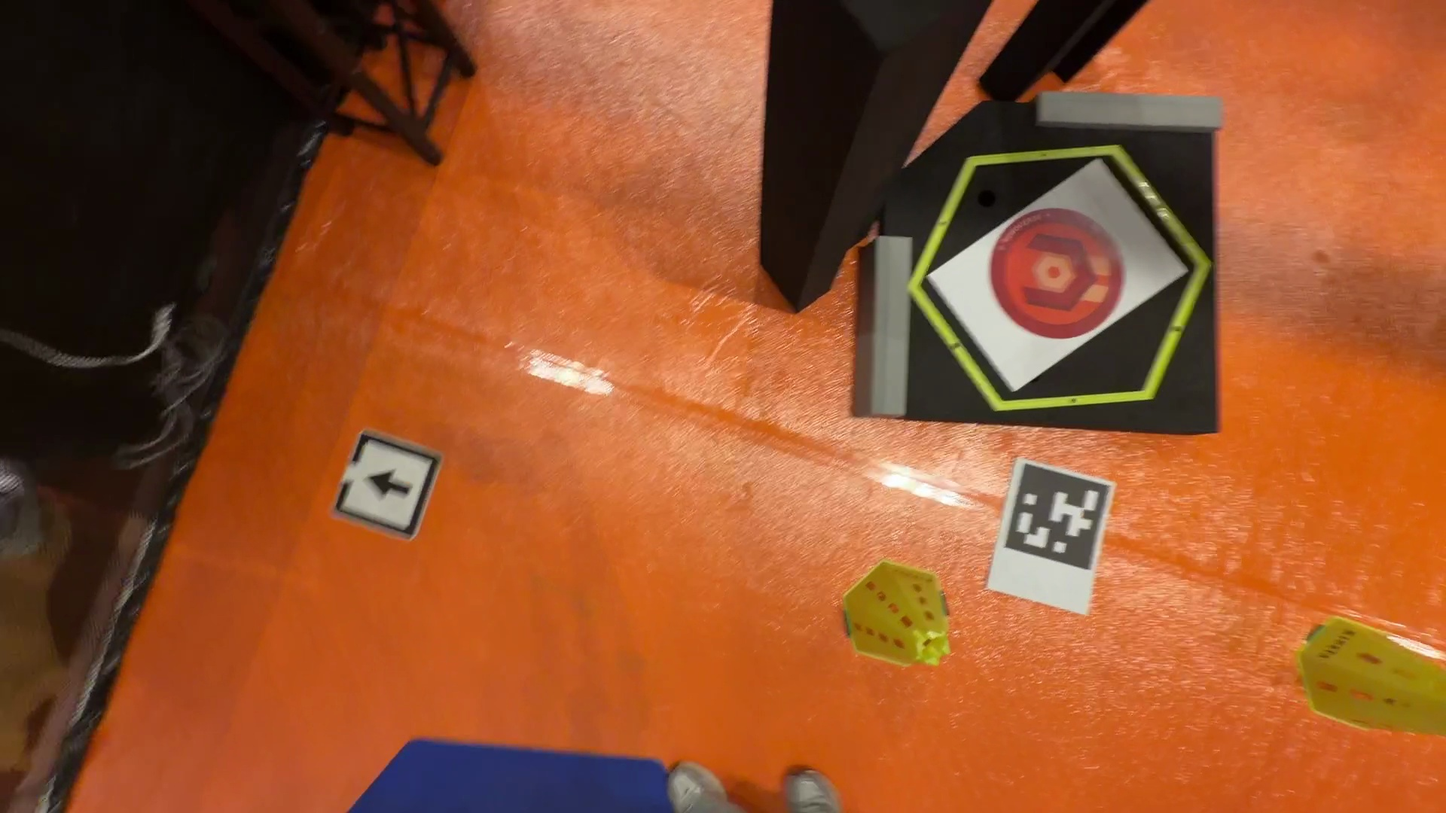landing_pad: (992, 208, 1130, 333)
